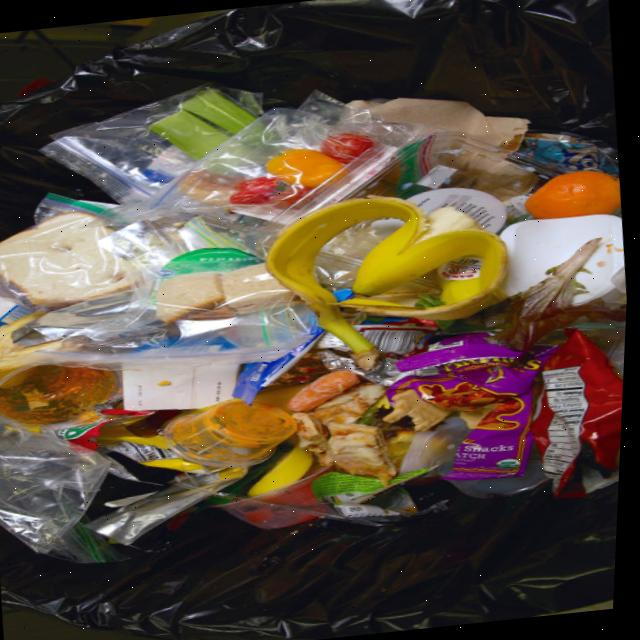Wet: (239, 178, 513, 364), (0, 198, 143, 310), (213, 130, 376, 210), (142, 78, 276, 162)
